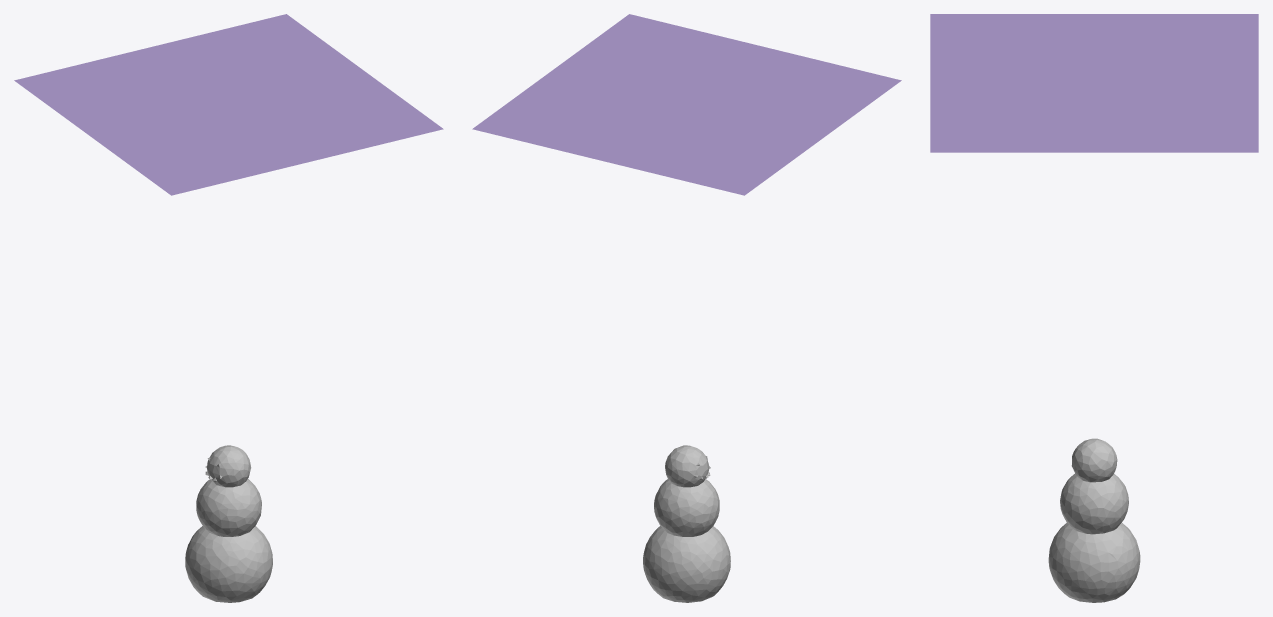
The model's file is init.glb.
3 renders of one model, left to right at view 1: azimuth 30°, elevation 25°; view 2: azimuth 150°, elevation 25°; view 3: azimuth 270°, elevation 25°, orthographic. The views are drawn at different scales.
Parts seen in each view (by area): view 1: world, object.obj; view 2: world, object.obj; view 3: world, object.obj.
Boxes of the visible parts, left/top/right/bottom form: world: left=14, top=14, right=443, bottom=195; object.obj: left=185, top=445, right=272, bottom=602; world: left=472, top=14, right=901, bottom=195; object.obj: left=643, top=445, right=730, bottom=602; world: left=930, top=14, right=1258, bottom=152; object.obj: left=1048, top=438, right=1140, bottom=602.
Bounding box in the file's own units: 0.5874 × 0.9995 × 0.5874.
